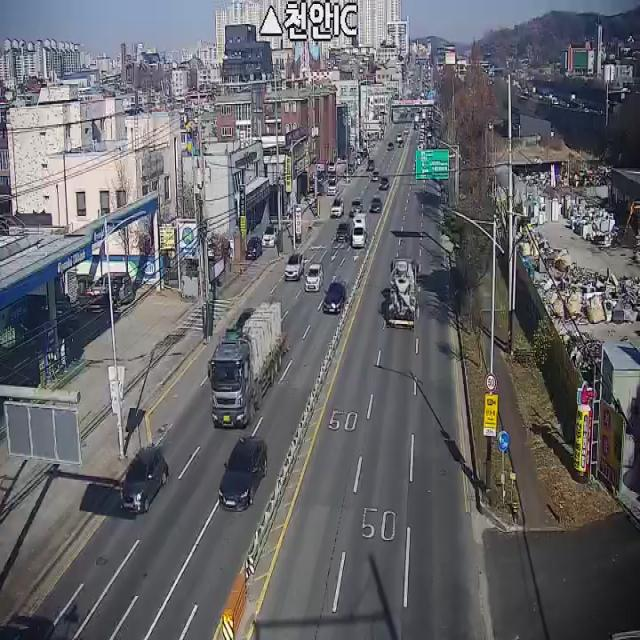Car: (218, 436, 268, 514), (120, 447, 167, 514), (96, 271, 133, 306), (322, 282, 347, 314), (304, 263, 324, 293), (284, 254, 304, 282), (245, 236, 263, 260), (262, 224, 278, 247), (336, 223, 351, 243), (330, 198, 344, 218), (349, 197, 363, 217), (327, 178, 339, 196), (370, 197, 382, 213), (380, 177, 390, 190)
Truck: (208, 300, 287, 429), (389, 257, 416, 330), (352, 212, 367, 248)
